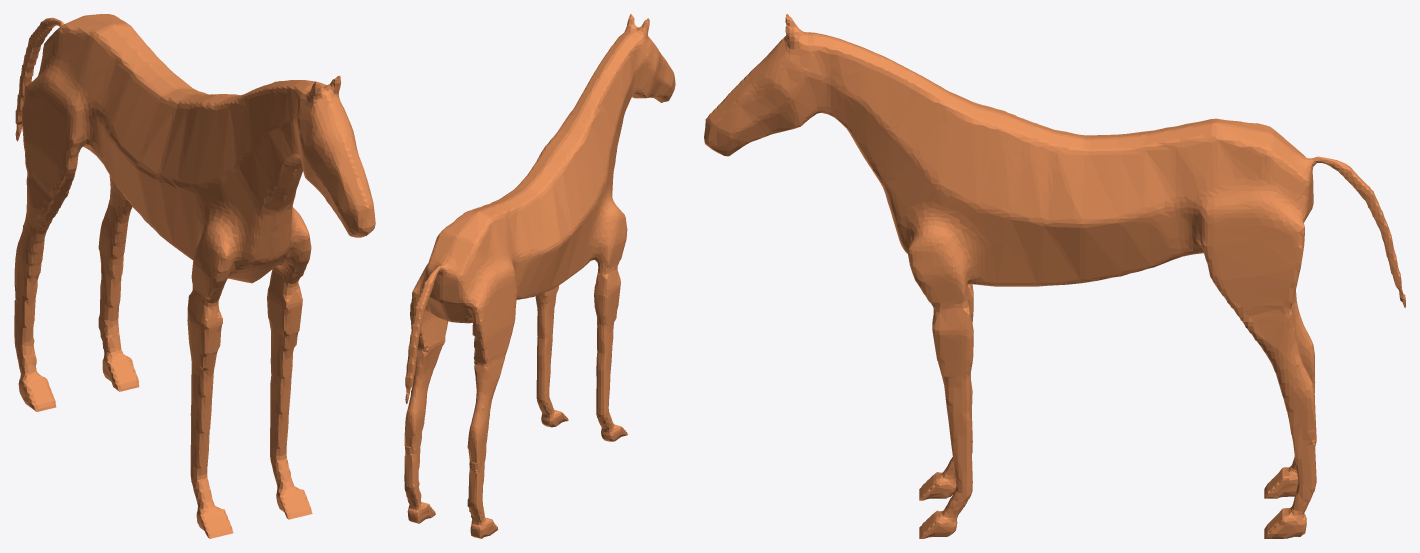
Rendered from HorseIdleHAIR.fbx.
3 views of the same model, side by side, from view 1: azimuth 30°, elevation 25°; view 2: azimuth 150°, elevation 25°; view 3: azimuth 270°, elevation 25° (orthographic). The views are drawn at different scales.
Parts seen in each view (by area): view 1: Horse; view 2: Horse; view 3: Horse.
Boxes of the visible parts, left/top/right/bottom form: Horse: left=14, top=14, right=375, bottom=538; Horse: left=404, top=14, right=675, bottom=538; Horse: left=704, top=14, right=1405, bottom=538.
Size of the model in its own units: 180 by 41.27 by 232.
